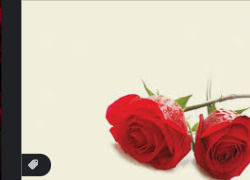RedRose: (106, 84, 190, 169), (194, 104, 250, 180)
